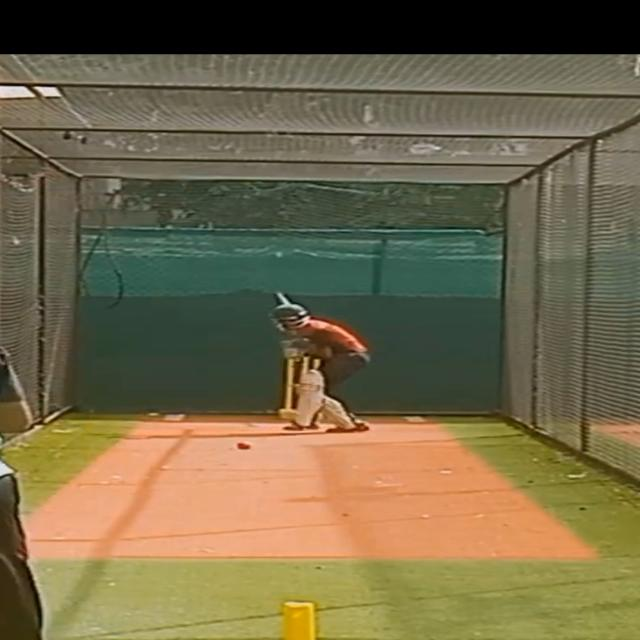ball: (231, 438, 258, 453)
stump: (283, 354, 324, 419)
